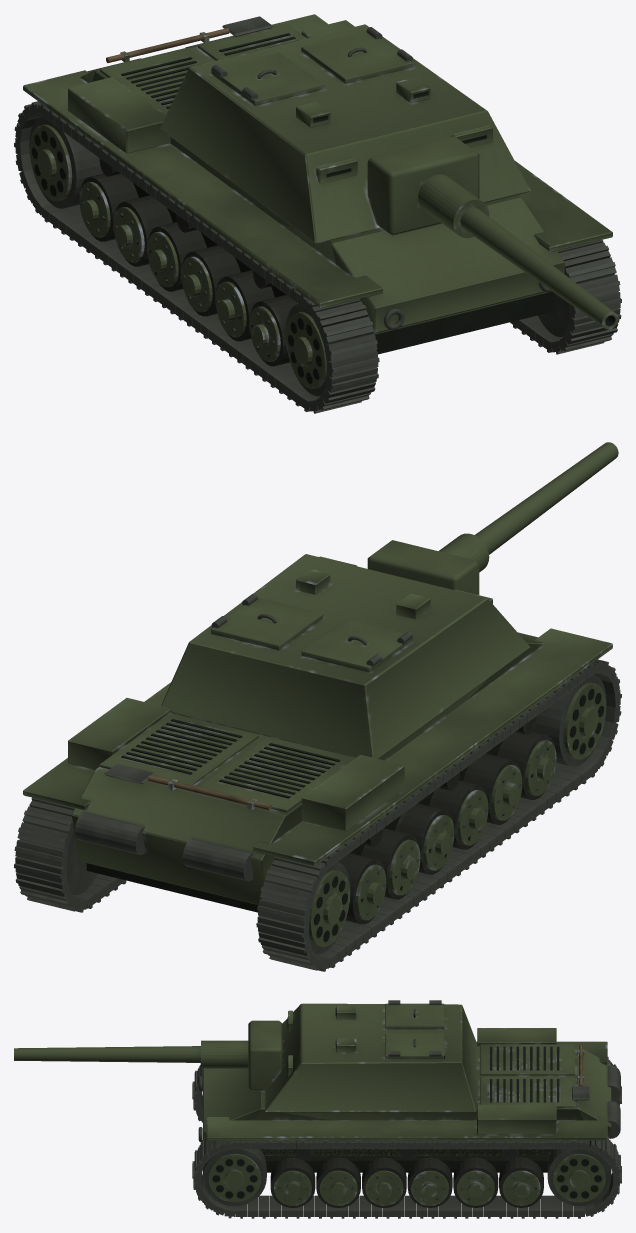
The picture shows the model from 3 angles, top to bottom: view 1: azimuth 30°, elevation 25°; view 2: azimuth 150°, elevation 25°; view 3: azimuth 270°, elevation 25°; orthographic projection. The views are drawn at different scales.
Parts seen in each view (by area): view 1: Fixed_enclosed_casemate, Armoured_hull, Track_chain_R, Mudguard_R, Heavy_box_mantlet, Track_chain_L, Fender_toolbox_R, Long_antitank_barrel, Rear_idler_R, Mudguard_L, Crew_roof_hatch_L, Chassis_frame (+12 smaller); view 2: Fixed_enclosed_casemate, Armoured_hull, Track_chain_R, Mudguard_R, Track_chain_L, Engine_access_panel_L, Engine_access_panel_R, Fender_toolbox_R, Drive_sprocket_R, Crew_roof_hatch_L, Heavy_box_mantlet, Fender_toolbox_L (+15 smaller); view 3: Fixed_enclosed_casemate, Track_chain_L, Armoured_hull, Mudguard_L, Rear_idler_L, Drive_sprocket_L, Engine_access_panel_R, Long_antitank_barrel, Engine_access_panel_L, Fender_toolbox_L, Heavy_box_mantlet, Roadwheel_4_L (+15 smaller).
Part boxes in pixels (<box>): Fixed_enclosed_casemate: <box>159,24,530,243</box>; Armoured_hull: <box>80,16,564,334</box>; Track_chain_R: <box>14,101,379,413</box>; Mudguard_R: <box>23,70,382,308</box>; Heavy_box_mantlet: <box>367,136,479,235</box>; Track_chain_L: <box>510,240,621,354</box>; Fender_toolbox_R: <box>68,77,170,153</box>; Long_antitank_barrel: <box>460,207,618,329</box>; Rear_idler_R: <box>29,116,103,208</box>; Mudguard_L: <box>272,14,612,251</box>; Crew_roof_hatch_L: <box>301,27,413,83</box>; Chassis_frame: <box>375,292,549,354</box>; Fixed_enclosed_casemate: <box>161,554,530,758</box>; Armoured_hull: <box>71,632,543,904</box>; Track_chain_R: <box>256,659,621,971</box>; Mudguard_R: <box>253,628,612,866</box>; Track_chain_L: <box>14,797,126,912</box>; Engine_access_panel_L: <box>99,712,258,785</box>; Engine_access_panel_R: <box>199,736,355,812</box>; Fender_toolbox_R: <box>301,754,404,831</box>; Drive_sprocket_R: <box>532,675,606,766</box>; Crew_roof_hatch_L: <box>211,593,323,650</box>; Heavy_box_mantlet: <box>367,540,479,594</box>; Fender_toolbox_L: <box>68,698,171,769</box>; Fixed_enclosed_casemate: <box>265,1003,476,1112</box>; Track_chain_L: <box>192,1136,621,1218</box>; Armoured_hull: <box>198,1045,611,1155</box>; Mudguard_L: <box>206,1117,607,1140</box>; Rear_idler_L: <box>547,1141,611,1206</box>; Drive_sprocket_L: <box>203,1143,266,1206</box>; Engine_access_panel_R: <box>480,1044,575,1075</box>; Long_antitank_barrel: <box>14,1046,200,1062</box>; Engine_access_panel_L: <box>480,1076,575,1107</box>; Fender_toolbox_L: <box>477,1104,556,1134</box>; Heavy_box_mantlet: <box>248,1020,282,1091</box>; Roadwheel_4_L: <box>453,1157,498,1207</box>.
Size of the model in its own units: 2.98 by 2.11 by 7.98.
1 material, 1 textured.
